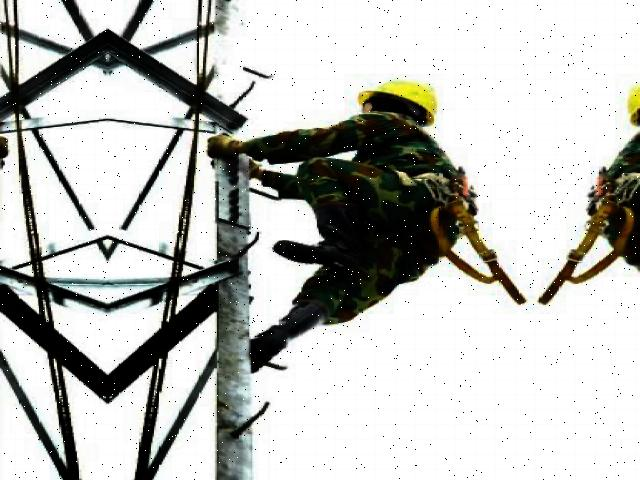Helmet: (353, 74, 445, 128)
